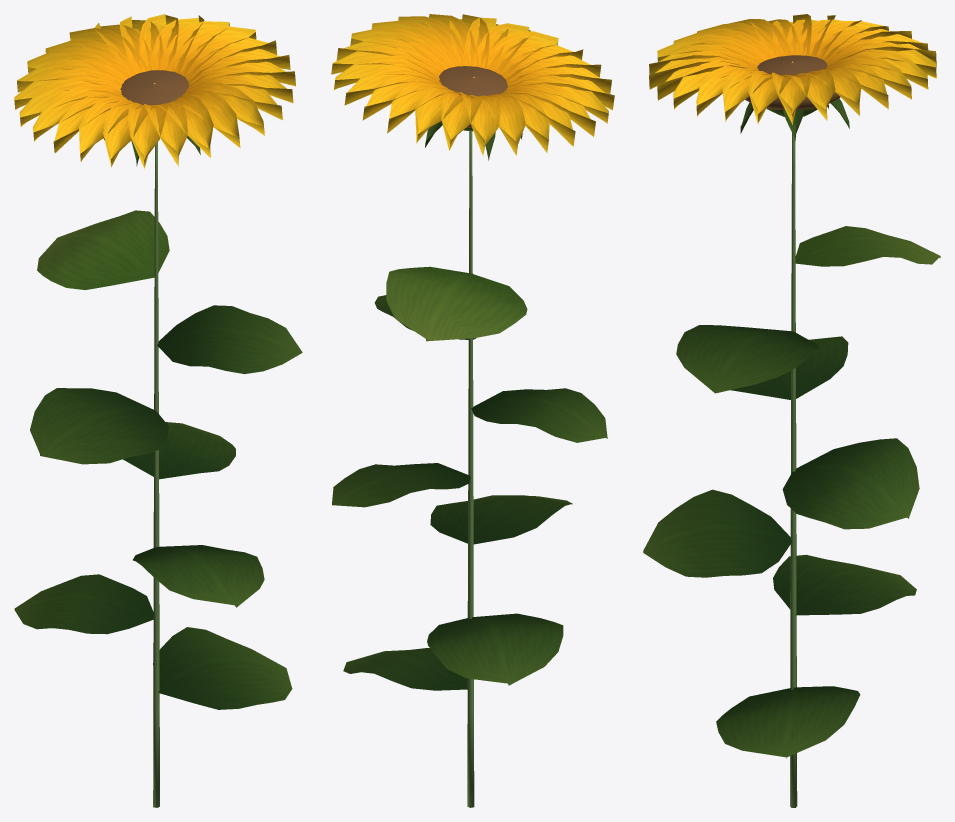
Rendered from sunflower-10-lod.glb.
The picture shows the model from 3 angles, left to right: view 1: azimuth 30°, elevation 25°; view 2: azimuth 150°, elevation 25°; view 3: azimuth 270°, elevation 25°; orthographic projection. The views are drawn at different scales.
Visible parts, largest first — view 1: sunflower_stage_10_leaf_veins.019, sunflower_stage_10_sunflower_petal.019, sunflower_stage_10_young_leaf.019, sunflower_stage_10_stem_fibres.019, sunflower_stage_10_receptacle.019; view 2: sunflower_stage_10_sunflower_petal.019, sunflower_stage_10_leaf_veins.019, sunflower_stage_10_young_leaf.019, sunflower_stage_10_stem_fibres.019, sunflower_stage_10_receptacle.019; view 3: sunflower_stage_10_leaf_veins.019, sunflower_stage_10_sunflower_petal.019, sunflower_stage_10_young_leaf.019, sunflower_stage_10_stem_fibres.019, sunflower_stage_10_receptacle.019.
Boxes of the visible parts, x1,y1,x2,y2 form: sunflower_stage_10_leaf_veins.019: [14, 136, 302, 709]; sunflower_stage_10_sunflower_petal.019: [14, 14, 295, 169]; sunflower_stage_10_young_leaf.019: [37, 210, 169, 289]; sunflower_stage_10_stem_fibres.019: [153, 142, 159, 807]; sunflower_stage_10_receptacle.019: [120, 70, 189, 105]; sunflower_stage_10_sunflower_petal.019: [331, 14, 614, 155]; sunflower_stage_10_leaf_veins.019: [332, 121, 607, 690]; sunflower_stage_10_young_leaf.019: [386, 127, 527, 341]; sunflower_stage_10_stem_fibres.019: [467, 131, 474, 807]; sunflower_stage_10_receptacle.019: [439, 66, 507, 127]; sunflower_stage_10_leaf_veins.019: [643, 98, 919, 758]; sunflower_stage_10_sunflower_petal.019: [649, 14, 936, 124]; sunflower_stage_10_young_leaf.019: [766, 107, 940, 266]; sunflower_stage_10_stem_fibres.019: [790, 133, 797, 807]; sunflower_stage_10_receptacle.019: [745, 55, 840, 109].
Bounding box in the file's own units: 0.3148 × 0.8876 × 0.3124.
Materials: 6 (3 with a texture image).
